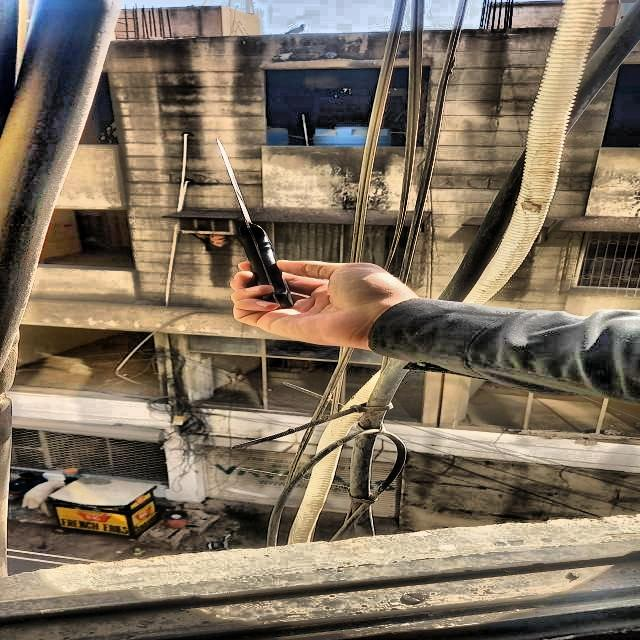knife: (218, 139, 294, 309)
